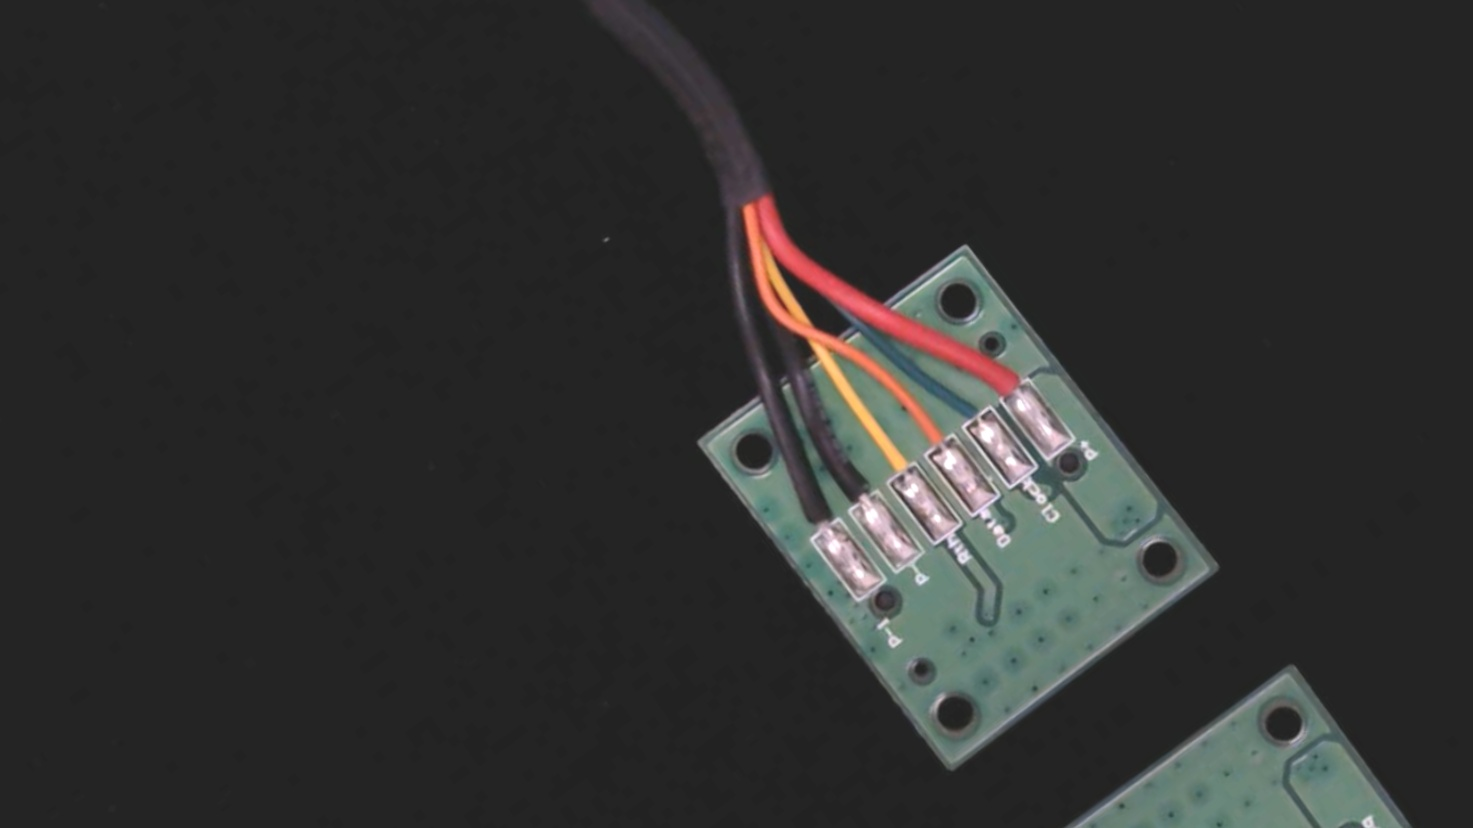Black: (813, 442, 890, 526)
Black1: (774, 469, 850, 553)
Green: (929, 362, 1009, 449)
Orange: (889, 387, 966, 472)
Red: (967, 336, 1044, 419)
Yellow: (851, 412, 928, 499)
